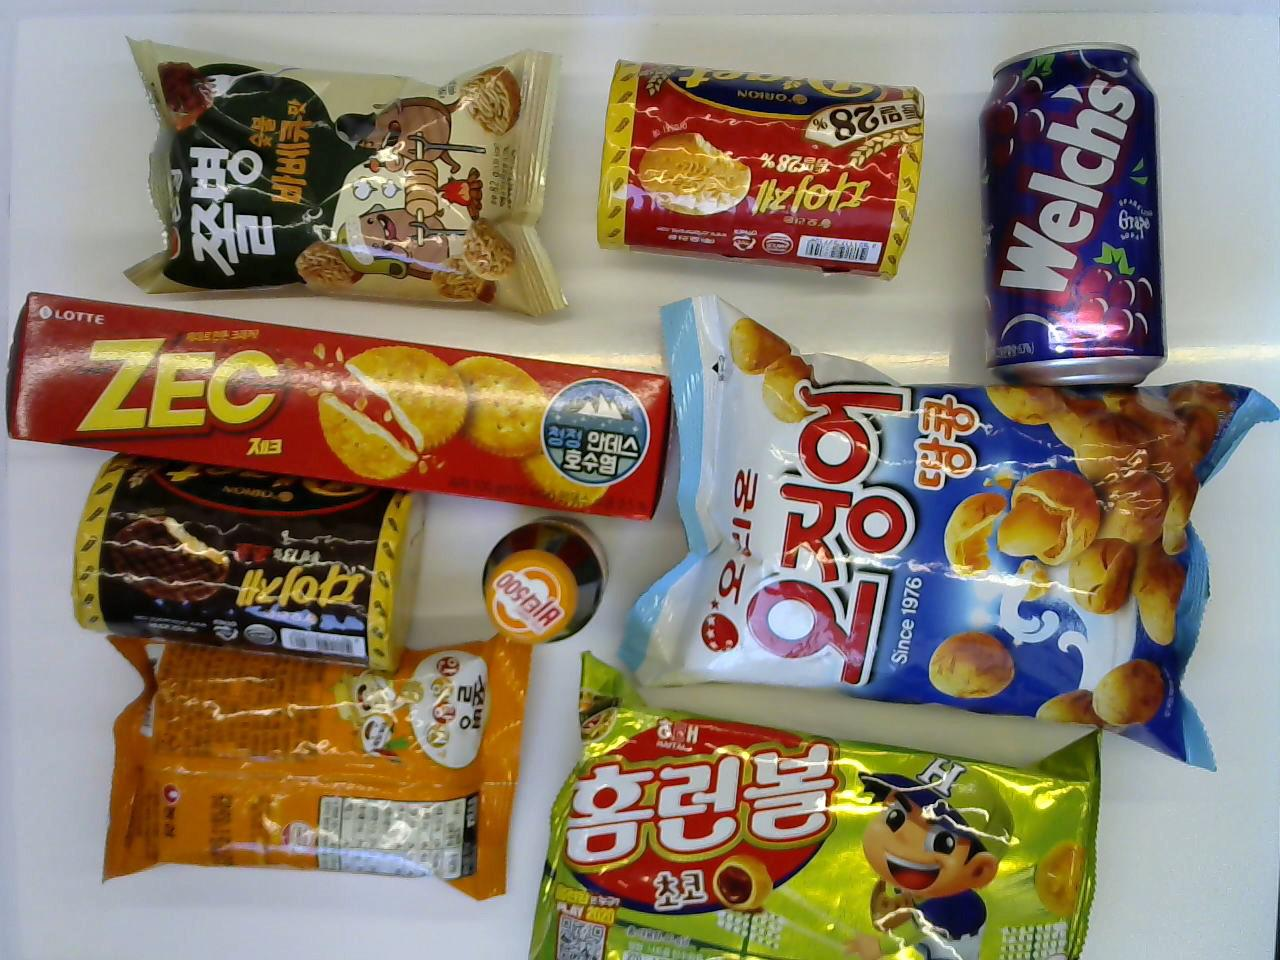diget_choco: (68, 453, 440, 672)
diget_ori: (595, 54, 923, 282)
homerunball: (522, 654, 1110, 960)
jjolbyung_noodle: (97, 619, 534, 904)
jjolbyung_ori: (111, 24, 569, 334)
squid_peanut: (626, 292, 1273, 775)
vita500: (476, 515, 611, 649)
welchs: (976, 36, 1183, 389)
zec: (8, 286, 671, 528)
